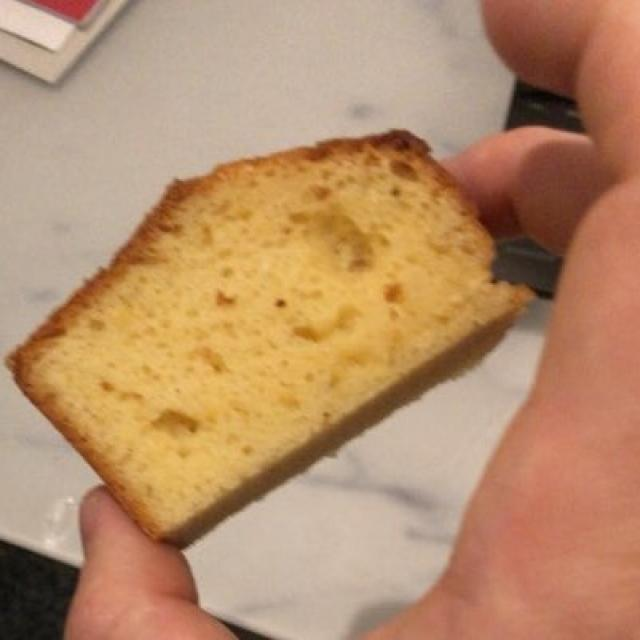cake: (18, 151, 521, 524)
